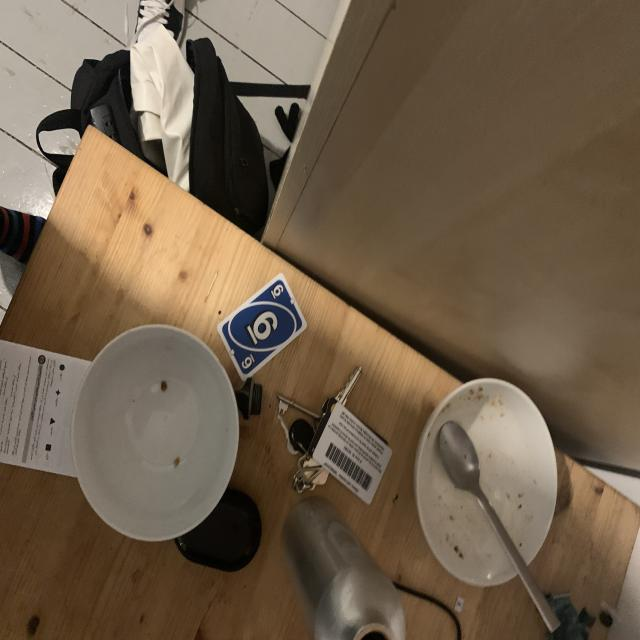lblue-6: (268, 282, 286, 302)
